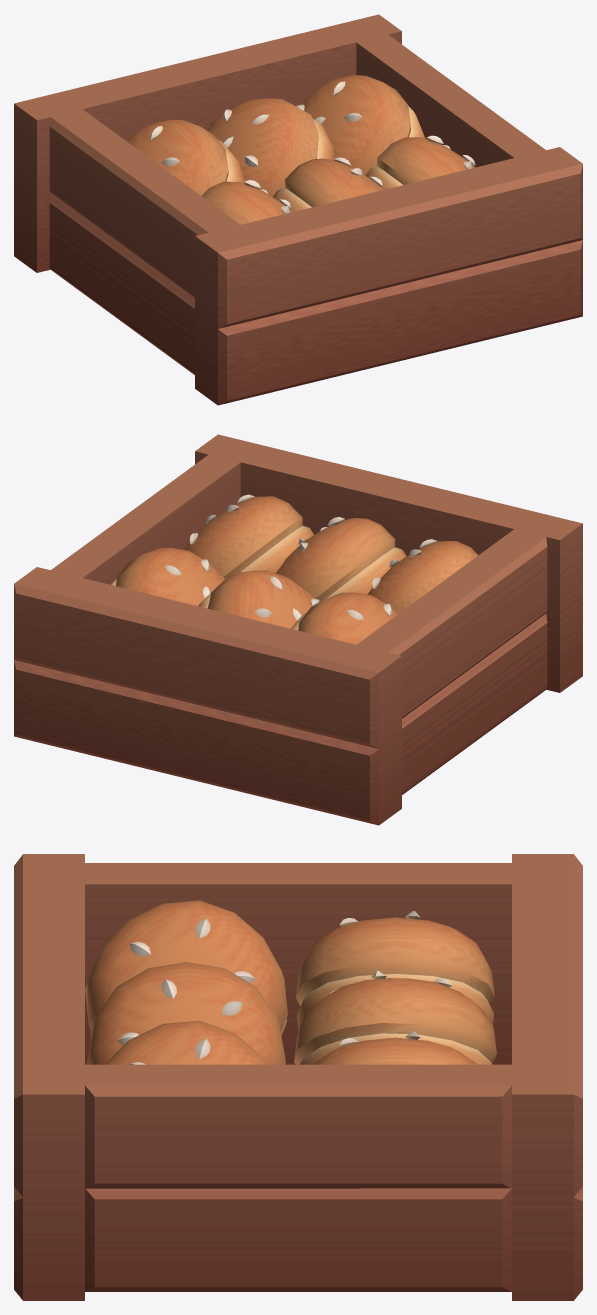
The model's file is crate_buns.gltf.
The picture shows the model from 3 angles, top to bottom: view 1: azimuth 30°, elevation 25°; view 2: azimuth 150°, elevation 25°; view 3: azimuth 270°, elevation 25°; orthographic projection. The views are drawn at different scales.
Visible parts, largest first — view 1: crate_buns; view 2: crate_buns; view 3: crate_buns.
Boxes of the visible parts, x1,y1,x2,y2 form: crate_buns: (14, 14, 582, 405); crate_buns: (14, 434, 582, 825); crate_buns: (14, 854, 582, 1300).
Size of the model in its own units: 2 by 0.8024 by 2.
1 material, 1 textured.
